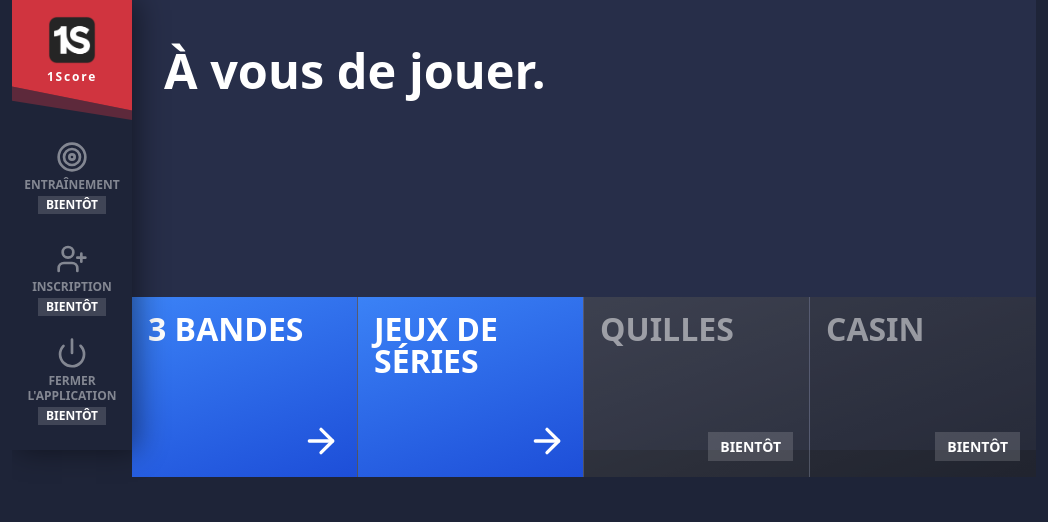
Test case: HomeScreen › goes back from the players step to the sub-mode step
Press the mouse on the button with test id "category-series" at {"x": 471, "y": 387}, box [358,297,584,477]
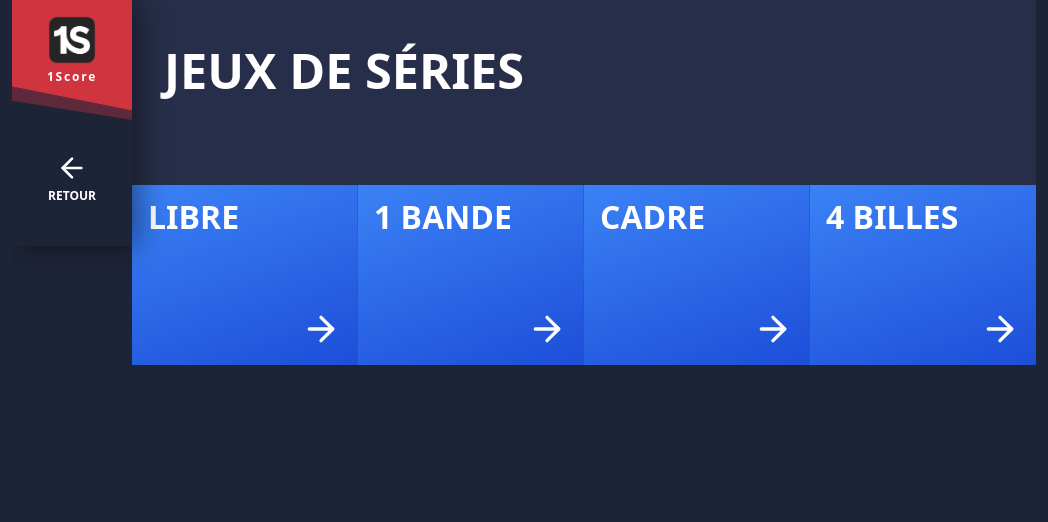
Press the mouse on the button with test id "mode-libre" at {"x": 245, "y": 275}, box [132,185,358,365]
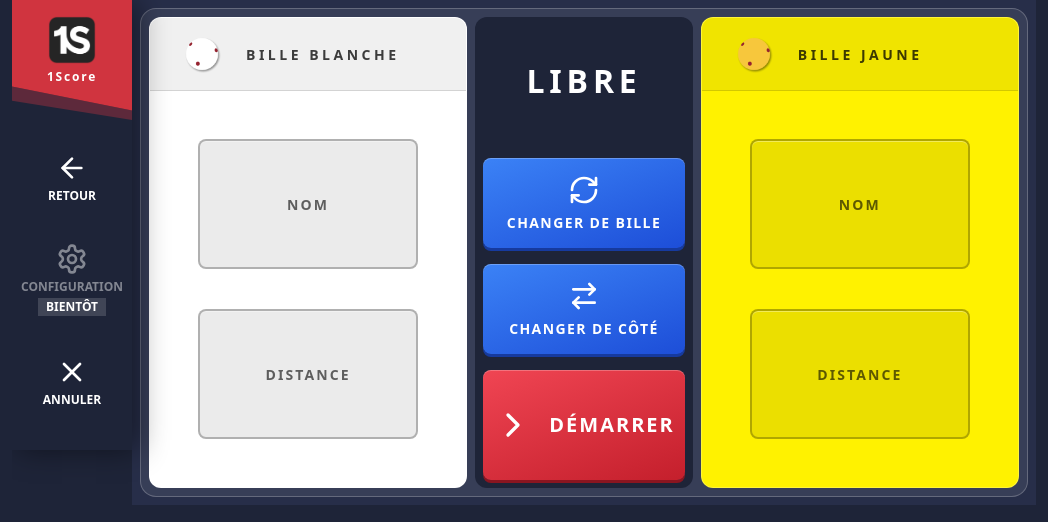
Press the mouse on the button with test id "sidebar-item-back" at {"x": 72, "y": 177}, box [12,132,132,222]
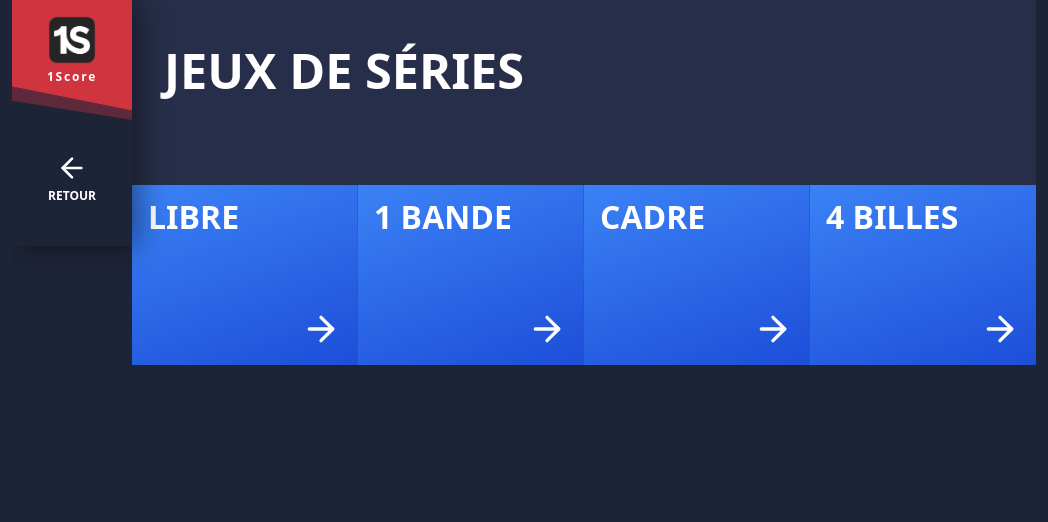
Expected: the element with test id "step-mode" is shown, [12,0,1036,281]
